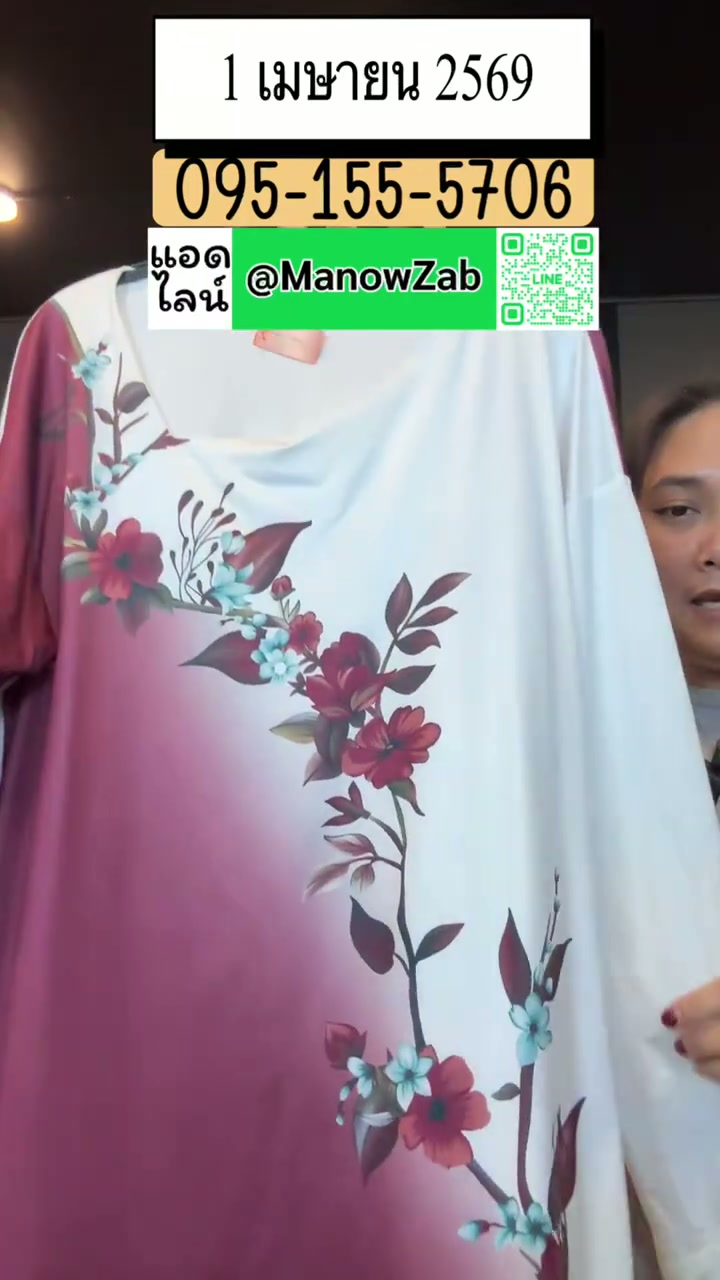display_shirt: (0, 267, 719, 1279)
